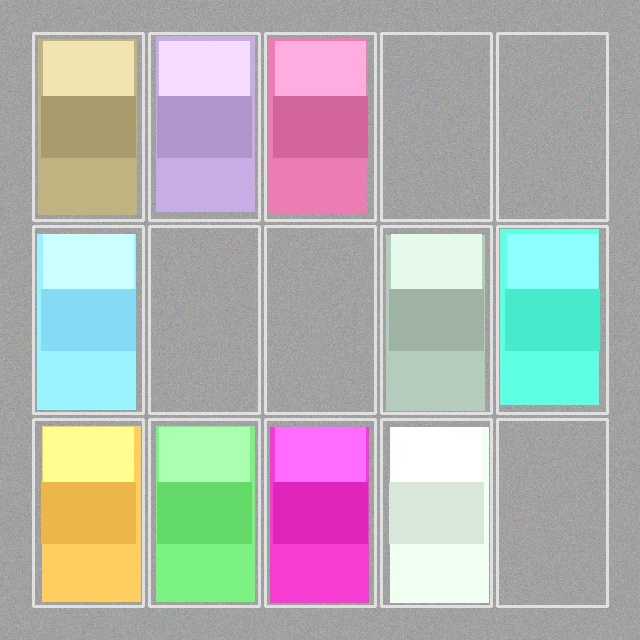space-empty: (383, 35, 489, 218), (499, 35, 605, 218), (151, 228, 257, 411), (267, 228, 373, 411), (499, 421, 605, 604)
space-occupied: (35, 35, 141, 218), (151, 35, 257, 218), (267, 35, 373, 218), (35, 228, 141, 411), (383, 228, 489, 411), (499, 228, 605, 411), (35, 421, 141, 604), (151, 421, 257, 604), (267, 421, 373, 604), (383, 421, 489, 604)
